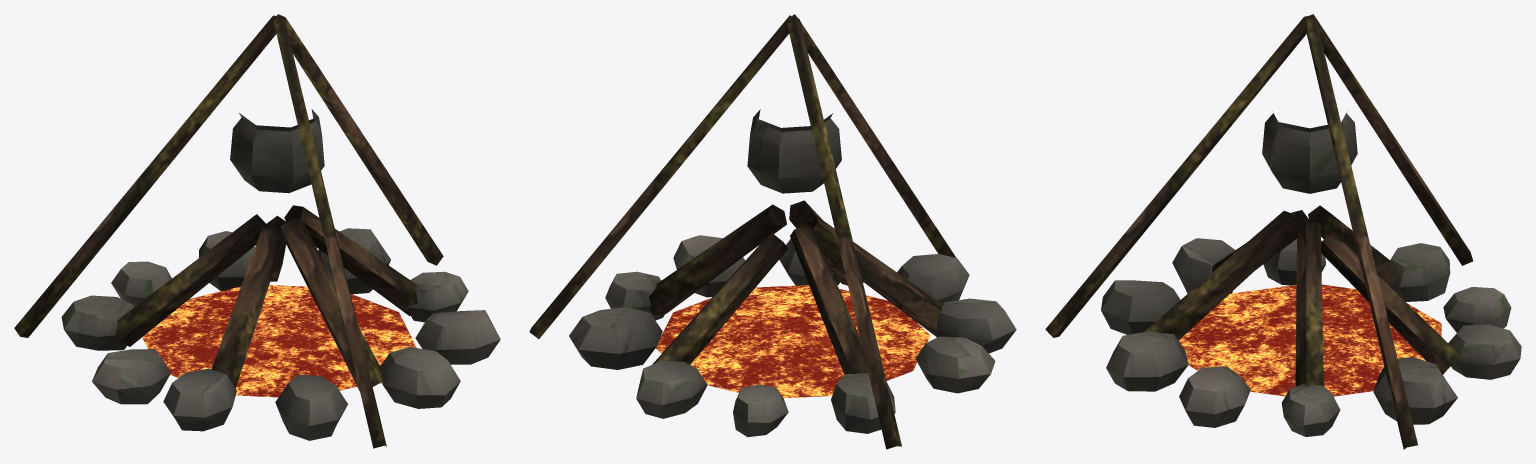
The model's file is camp_campfire.glb.
3 views of the same model, side by side, from view 1: azimuth 30°, elevation 25°; view 2: azimuth 150°, elevation 25°; view 3: azimuth 270°, elevation 25° (orthographic).
Visible parts, largest first — view 1: camp_campfire; view 2: camp_campfire; view 3: camp_campfire.
Boxes of the visible parts, x1,y1,x2,y2 form: camp_campfire: [14, 14, 500, 448]; camp_campfire: [529, 14, 1016, 449]; camp_campfire: [1045, 14, 1521, 449].
Bounding box in the file's own units: 1.62 × 1.28 × 1.65.
Materials: 3 (3 with a texture image).
